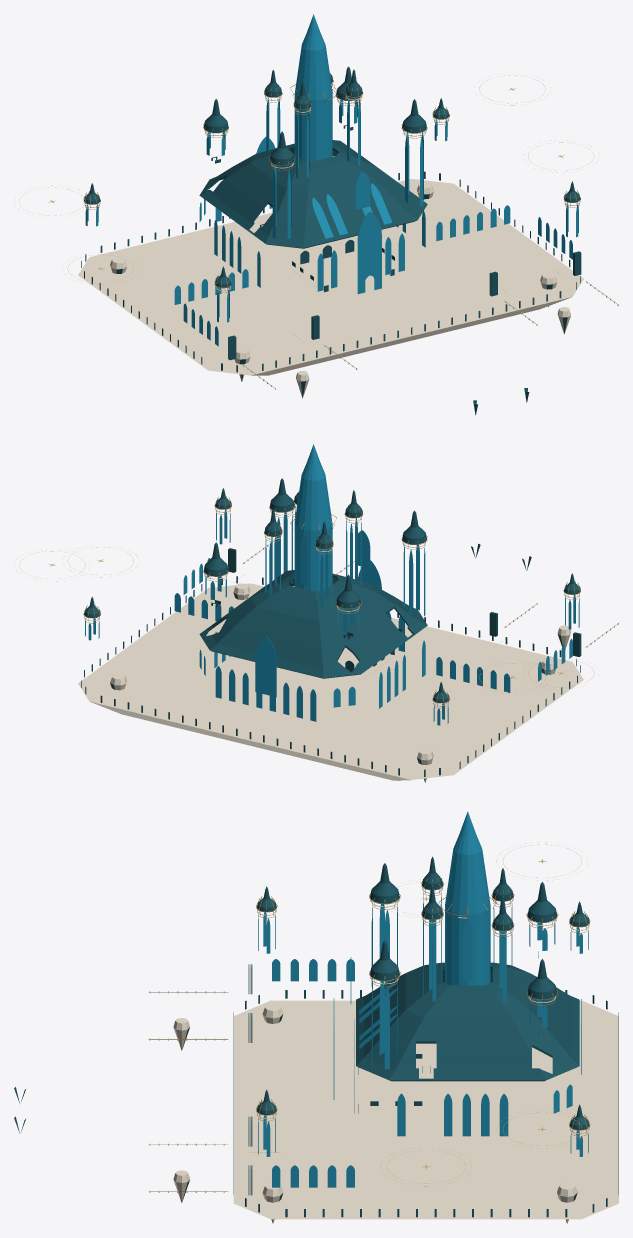
File: Spaceport-05.glb
3 renders of one model, top to bottom at view 1: azimuth 30°, elevation 25°; view 2: azimuth 150°, elevation 25°; view 3: azimuth 270°, elevation 25°, orthographic. The views are drawn at different scales.
Parts seen in each view (by area): view 1: NSP01.Native.5.2.Ivory, NSP01.Native.5.3.Teal, NSP01.Native.5.1.CeremonialGlass, NSP01.Native.5.0.Gold; view 2: NSP01.Native.5.2.Ivory, NSP01.Native.5.3.Teal, NSP01.Native.5.1.CeremonialGlass, NSP01.Native.5.0.Gold; view 3: NSP01.Native.5.2.Ivory, NSP01.Native.5.3.Teal, NSP01.Native.5.1.CeremonialGlass, NSP01.Native.5.0.Gold.
Part boxes in pixels (x1,y1,x2,y2): NSP01.Native.5.2.Ivory: [78, 84, 618, 398]; NSP01.Native.5.3.Teal: [81, 66, 581, 415]; NSP01.Native.5.1.CeremonialGlass: [85, 14, 578, 346]; NSP01.Native.5.0.Gold: [83, 73, 617, 397]; NSP01.Native.5.2.Ivory: [78, 504, 618, 781]; NSP01.Native.5.3.Teal: [81, 478, 581, 781]; NSP01.Native.5.1.CeremonialGlass: [85, 444, 579, 725]; NSP01.Native.5.0.Gold: [83, 492, 617, 782]; NSP01.Native.5.2.Ivory: [149, 888, 618, 1223]; NSP01.Native.5.3.Teal: [14, 856, 618, 1221]; NSP01.Native.5.1.CeremonialGlass: [258, 811, 588, 1187]; NSP01.Native.5.0.Gold: [148, 876, 590, 1222].
Size of the model in its own units: 700 by 356 by 584.
